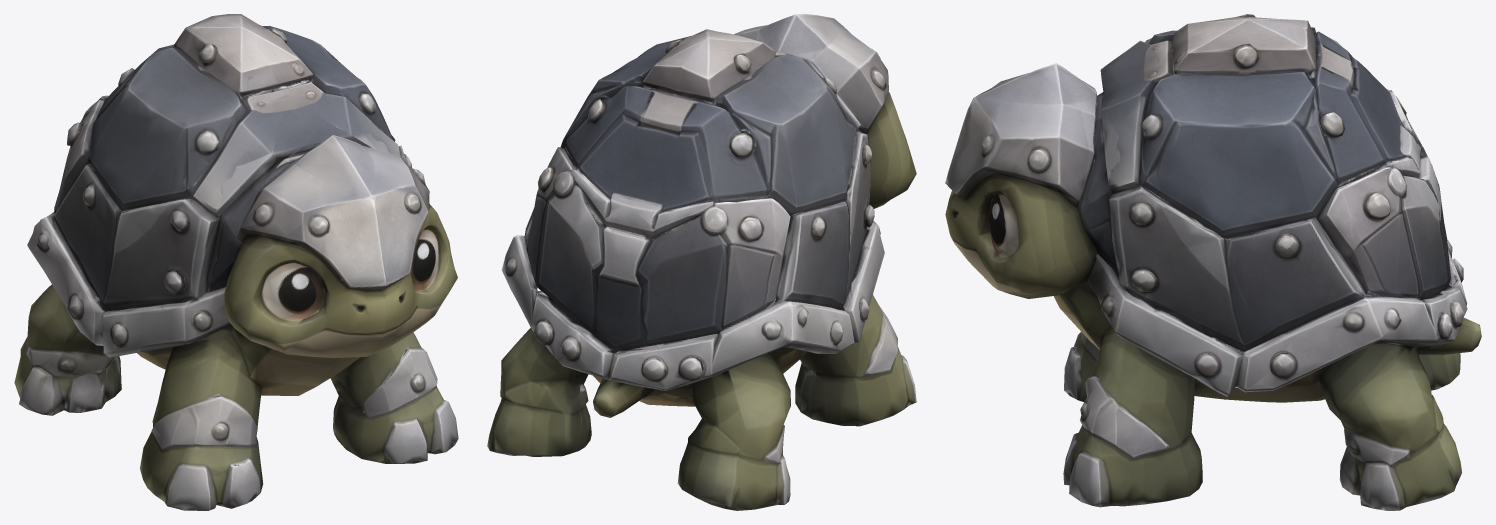
File: shellby.fbx
3 views of the same model, side by side, from view 1: azimuth 30°, elevation 25°; view 2: azimuth 150°, elevation 25°; view 3: azimuth 270°, elevation 25° (orthographic). The views are drawn at different scales.
Parts seen in each view (by area): view 1: texture_mapping; view 2: texture_mapping; view 3: texture_mapping.
Part boxes in pixels (x1,y1,x2,y2): texture_mapping: (14,14,458,510); texture_mapping: (487,14,916,510); texture_mapping: (945,14,1481,510).
Bounding box in the file's own units: 0.7078 × 1 × 0.8567.
Materials: 1 (1 with a texture image).
